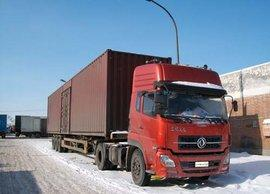truck: (32, 39, 234, 189)
